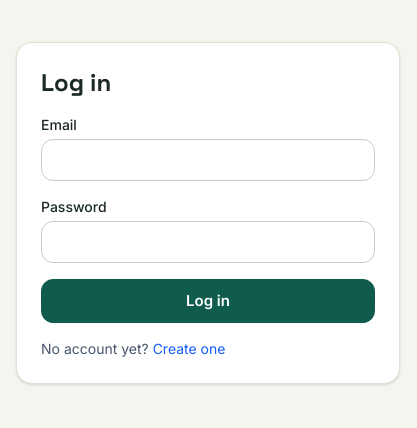
Test: authentication screens › shows the backend message when the password is wrong
The image size is (417, 428).
Type "alex@example.com" into the field labelled "Email" at (208, 160), box [41,139,375,181]
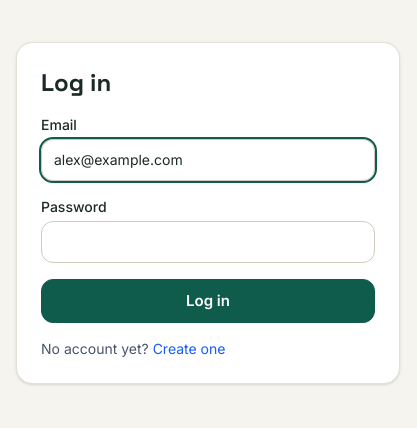
Type "wrong" into the password field labelled "Password" at (208, 242), box [41,221,375,263]
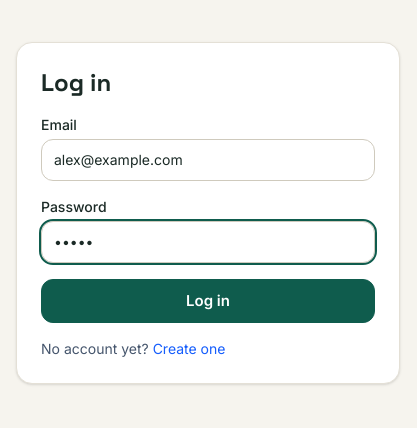
Click the button "Log in" at (208, 301), box [41,279,375,323]
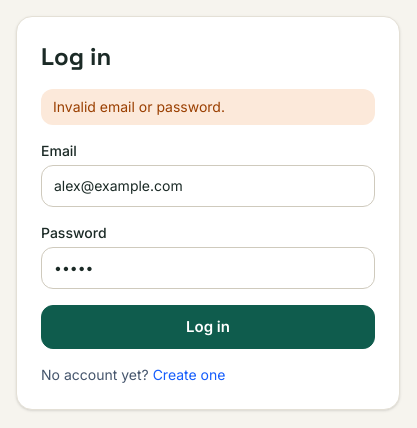
Expected: the heading "Log in" is shown, [41,41,111,72]
Expected: the text "Invalid email or password." is shown, [41,89,375,125]
